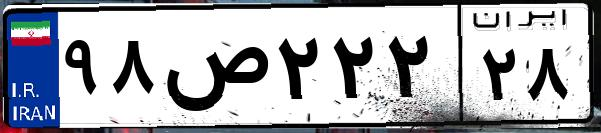2: (270, 28, 330, 110), (385, 28, 445, 110), (330, 28, 385, 110), (475, 38, 525, 113)
8: (525, 38, 570, 115), (110, 28, 158, 98)
9: (57, 26, 110, 100)
ص: (158, 20, 270, 120)
